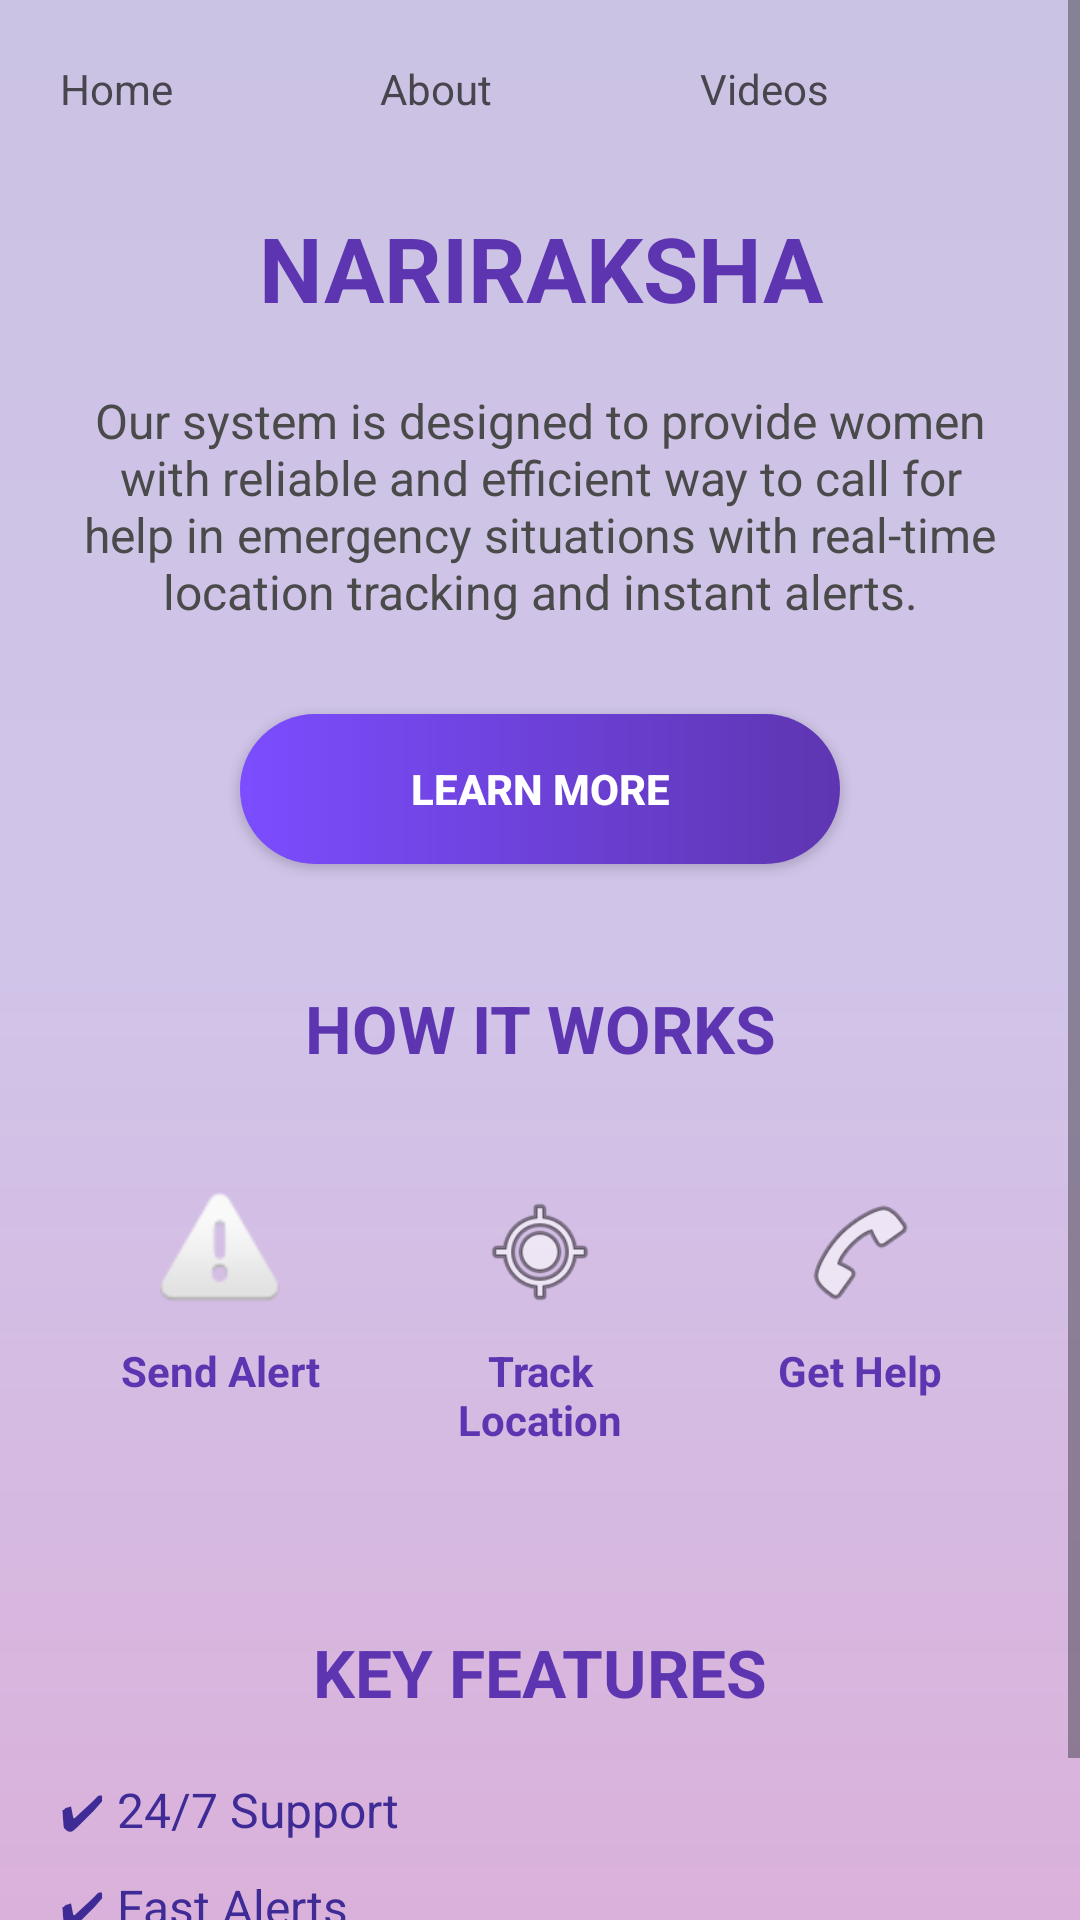

Locate icon controls on the screen. Image size 1080 × 1920, boxes as (x1, y1, x2, y2).
call: (814, 1206, 908, 1300)
mylocation: (492, 1204, 588, 1300)
